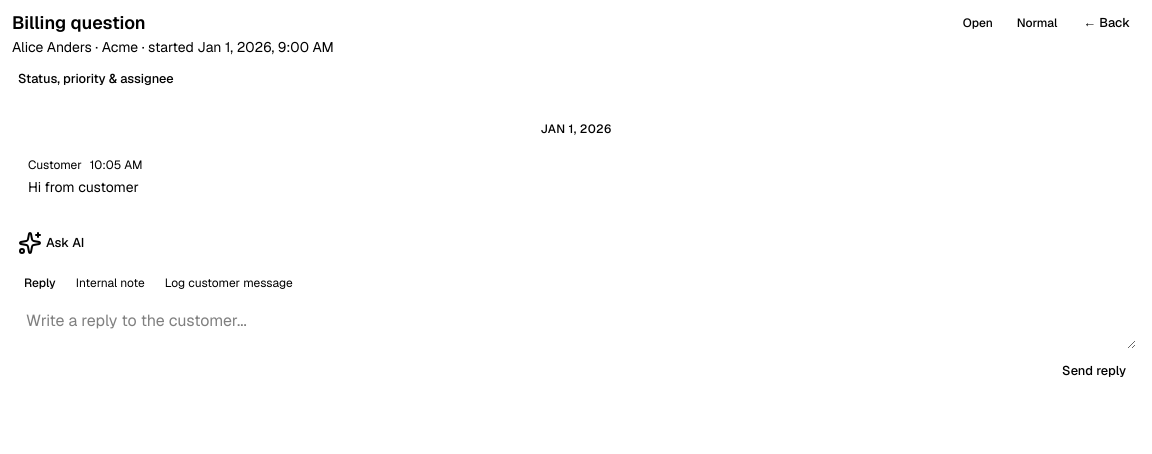
it: ConversationPane › AI suggestion in the single compose box › an ungrounded suggestion shows the warning, still only as an unsent draft
Click the button "Ask AI": [51, 243] box [8,229,94,257]
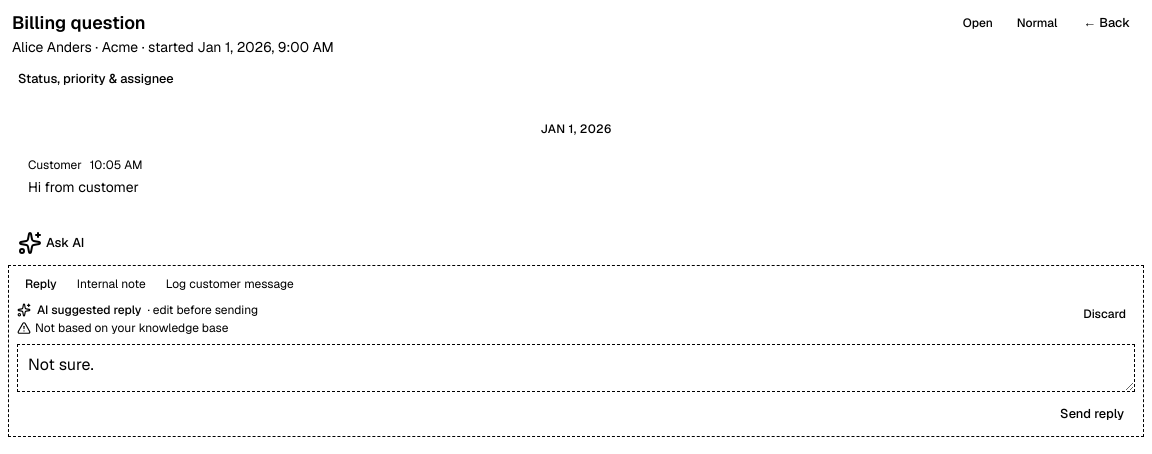
Expected: the message "AI suggested reply" does not show "Review before sending", [17,302,1135,336]
Expected: the message "AI suggested reply" shows "Not based on your knowledge base", [35,320,228,336]
